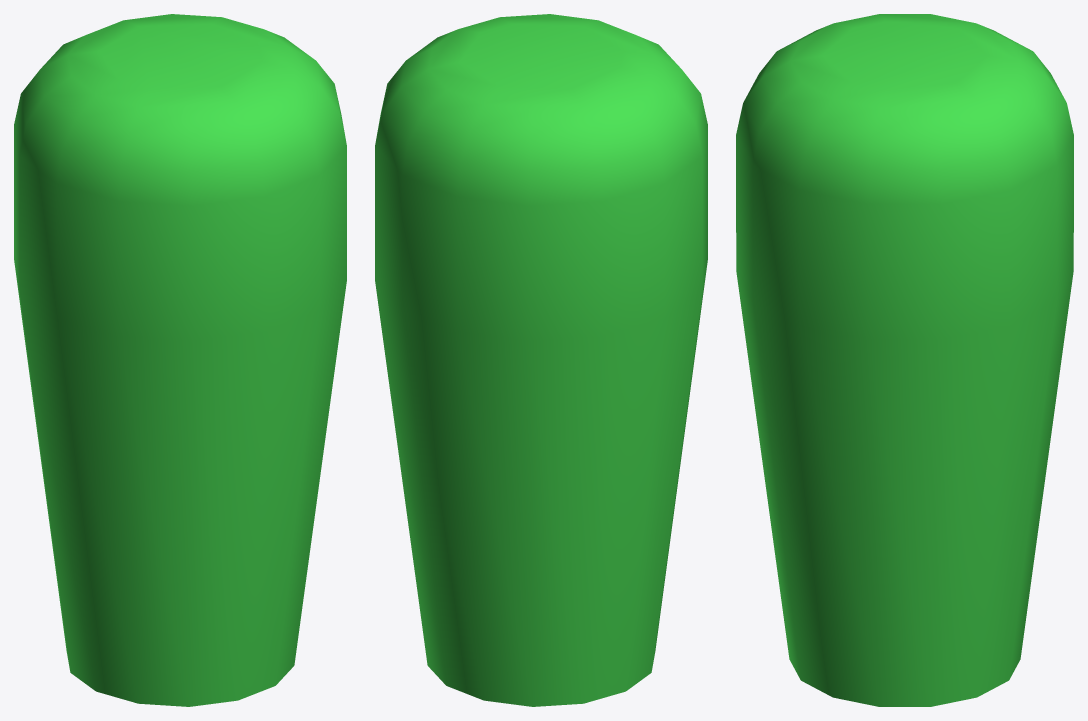
The model's file is Cactus002.fbx.
The picture shows the model from 3 angles, left to right: view 1: azimuth 30°, elevation 25°; view 2: azimuth 150°, elevation 25°; view 3: azimuth 270°, elevation 25°; orthographic projection.
Visible parts, largest first — view 1: Cactus002; view 2: Cactus002; view 3: Cactus002.
Part boxes in pixels (<box>): Cactus002: <box>14,14,346,706</box>; Cactus002: <box>375,14,707,706</box>; Cactus002: <box>736,14,1073,706</box>.
Bounding box in the file's own units: 162 × 328 × 166.
